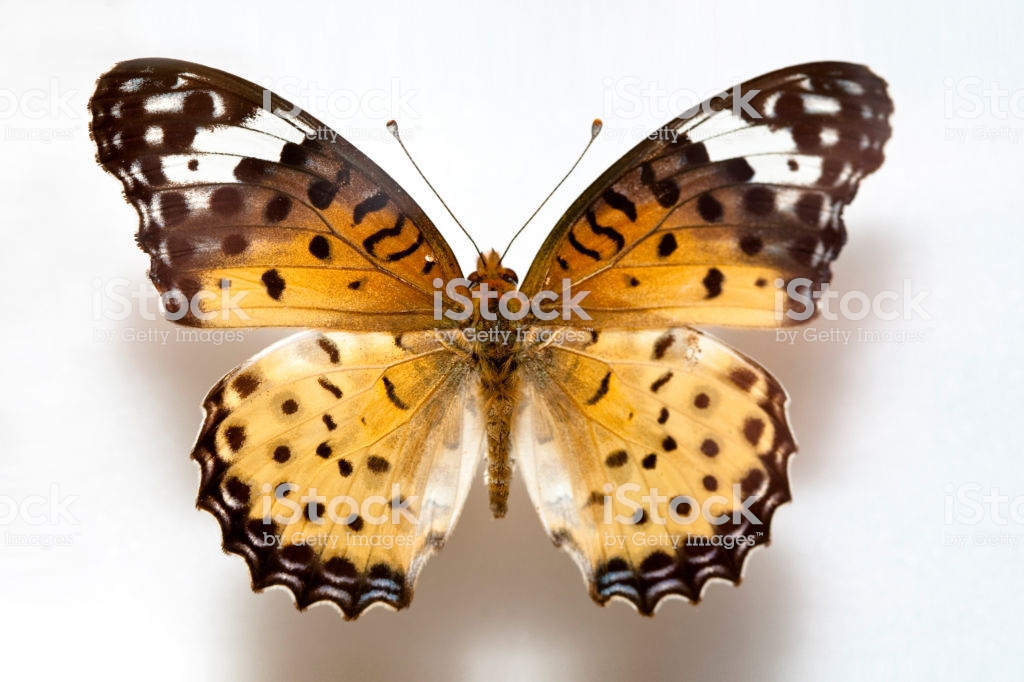Argyreus hyperbius: (78, 46, 901, 631)
butterfly: (80, 48, 903, 633)
